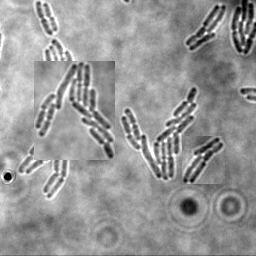Dividing: (34, 1, 52, 37), (41, 3, 57, 33)
Microcolony: (18, 40, 89, 199), (34, 61, 115, 160), (120, 87, 197, 181), (182, 136, 225, 184), (184, 5, 226, 52), (230, 1, 255, 56)
